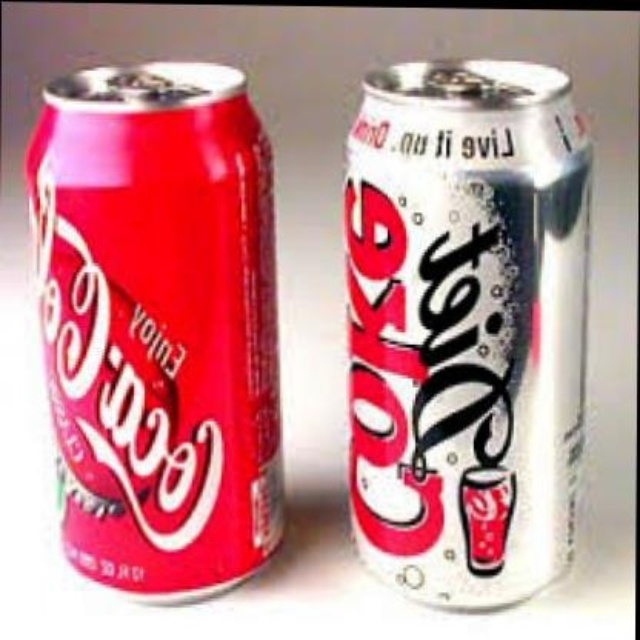trash: (26, 62, 282, 600), (345, 60, 589, 608)
